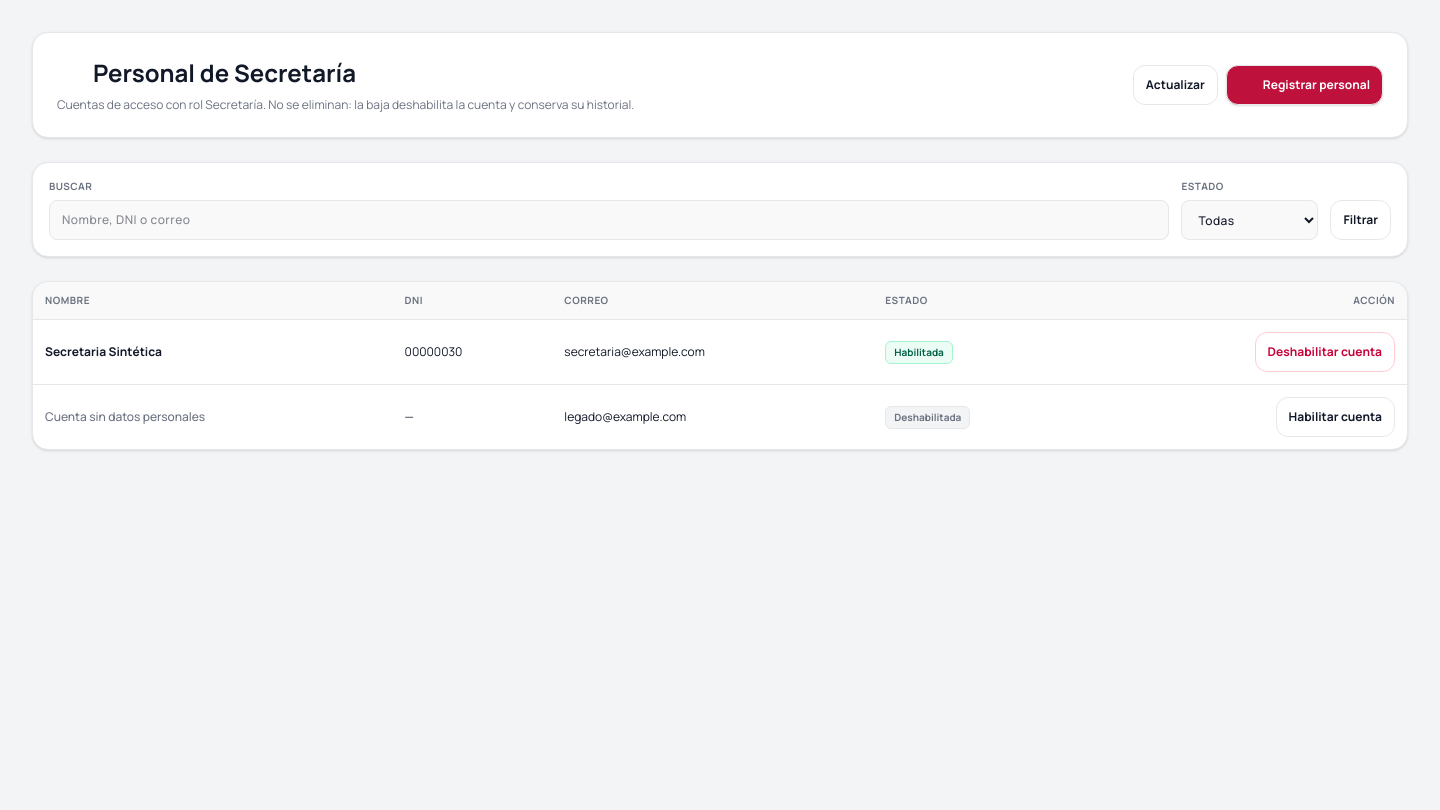
it: deactivating requires reason and justification, then reloads the list
Step 1. Click the button "Deshabilitar cuenta" → point(1325, 352), box [1255, 332, 1395, 372]
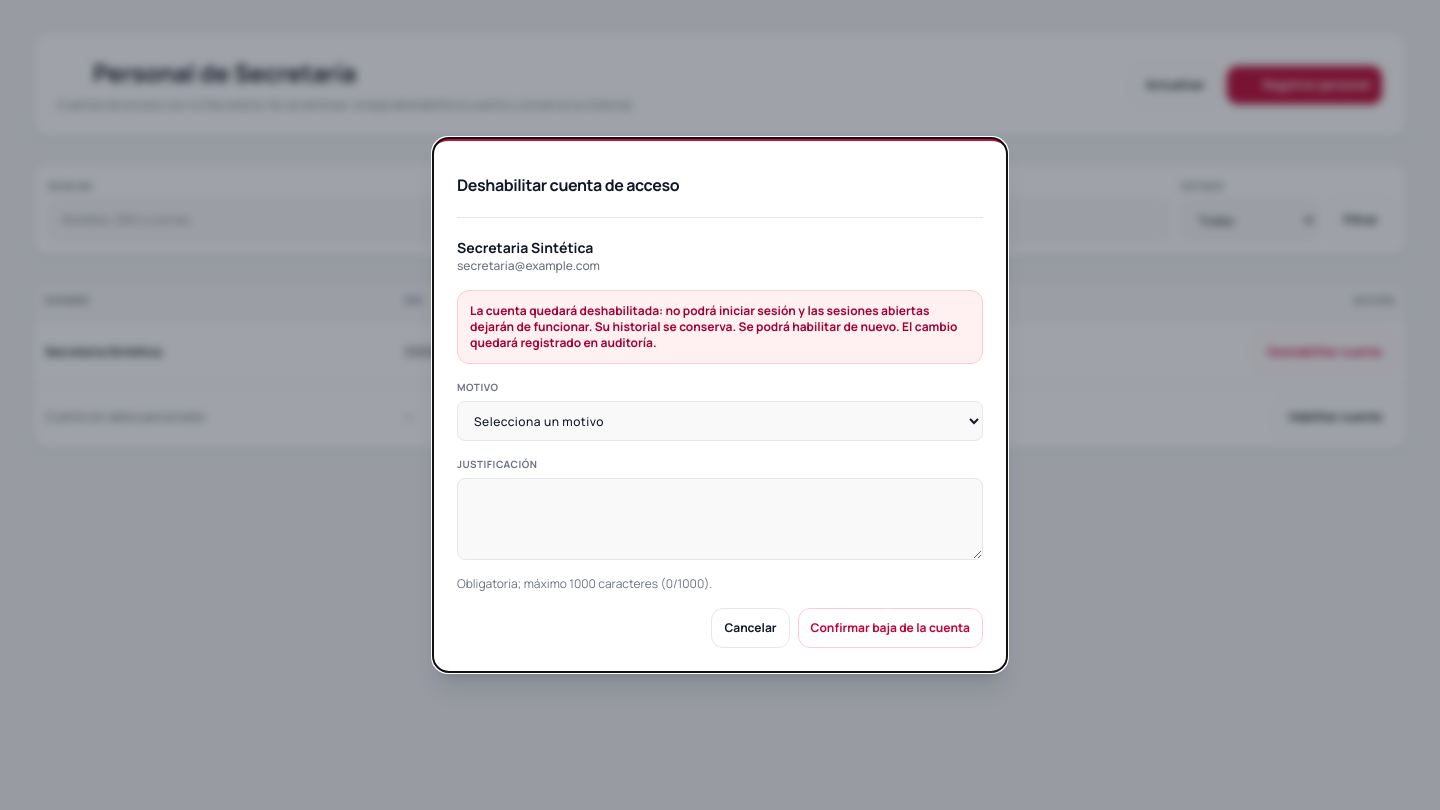
Expected: the form that starts with "Secretaria Sintética" is shown
Step 2. Submit the form that starts with "Secretaria Sintética", box [457, 238, 983, 648]
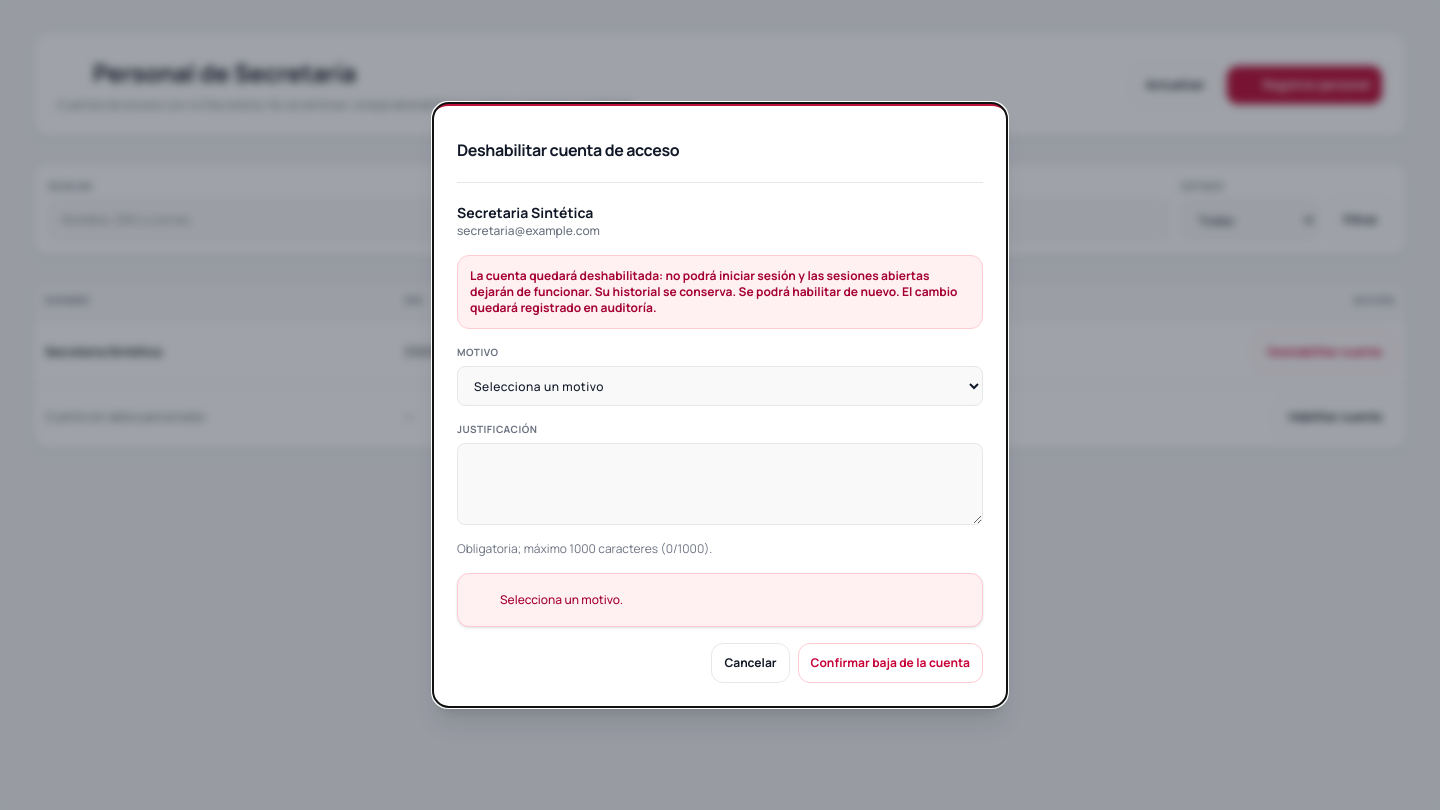
Step 3. Select "Renuncia" in the dropdown labelled "Motivo" → point(720, 386), box [457, 366, 983, 406]
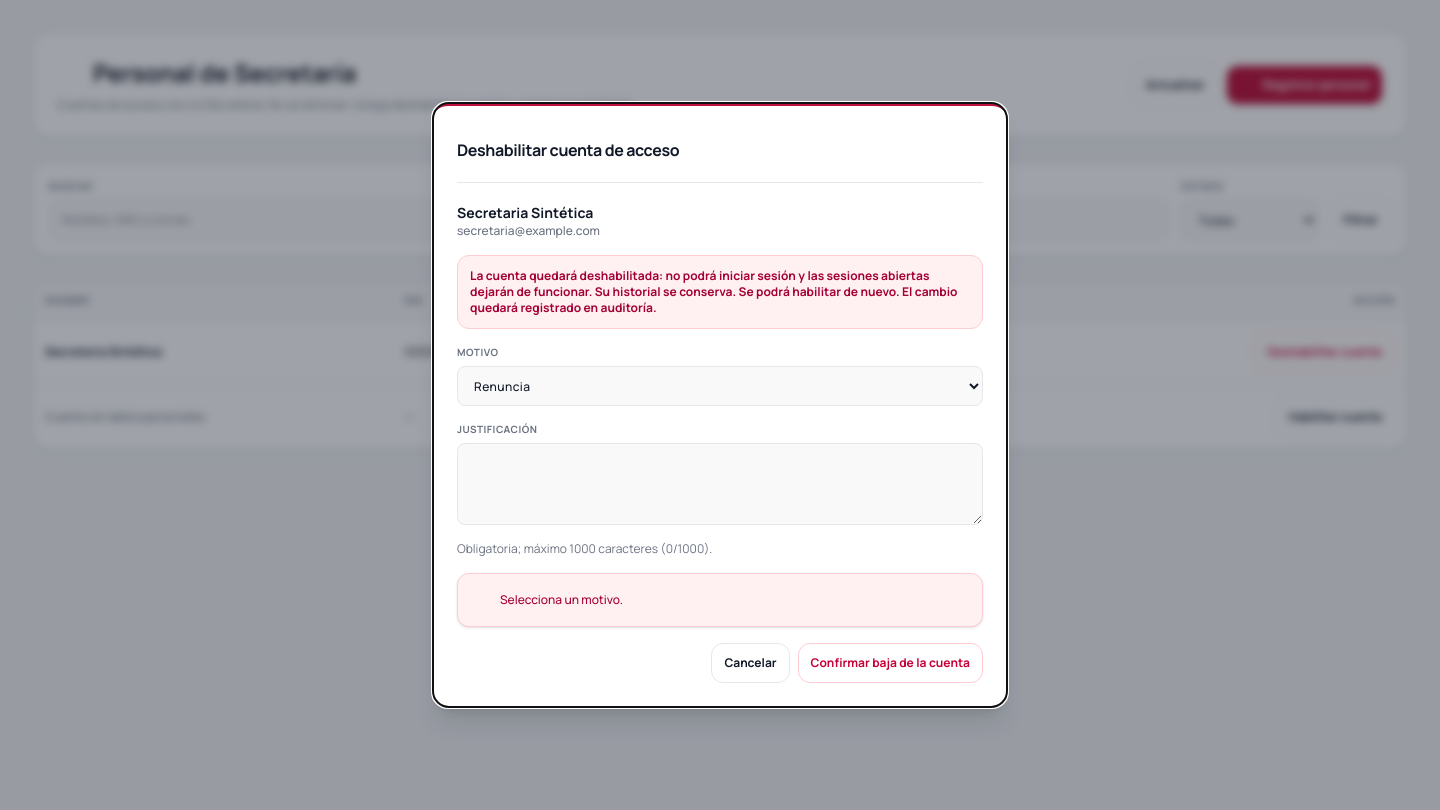
Expected: the form that starts with "Secretaria Sintética" is shown
Step 4. Submit the form that starts with "Secretaria Sintética", box [457, 203, 983, 683]
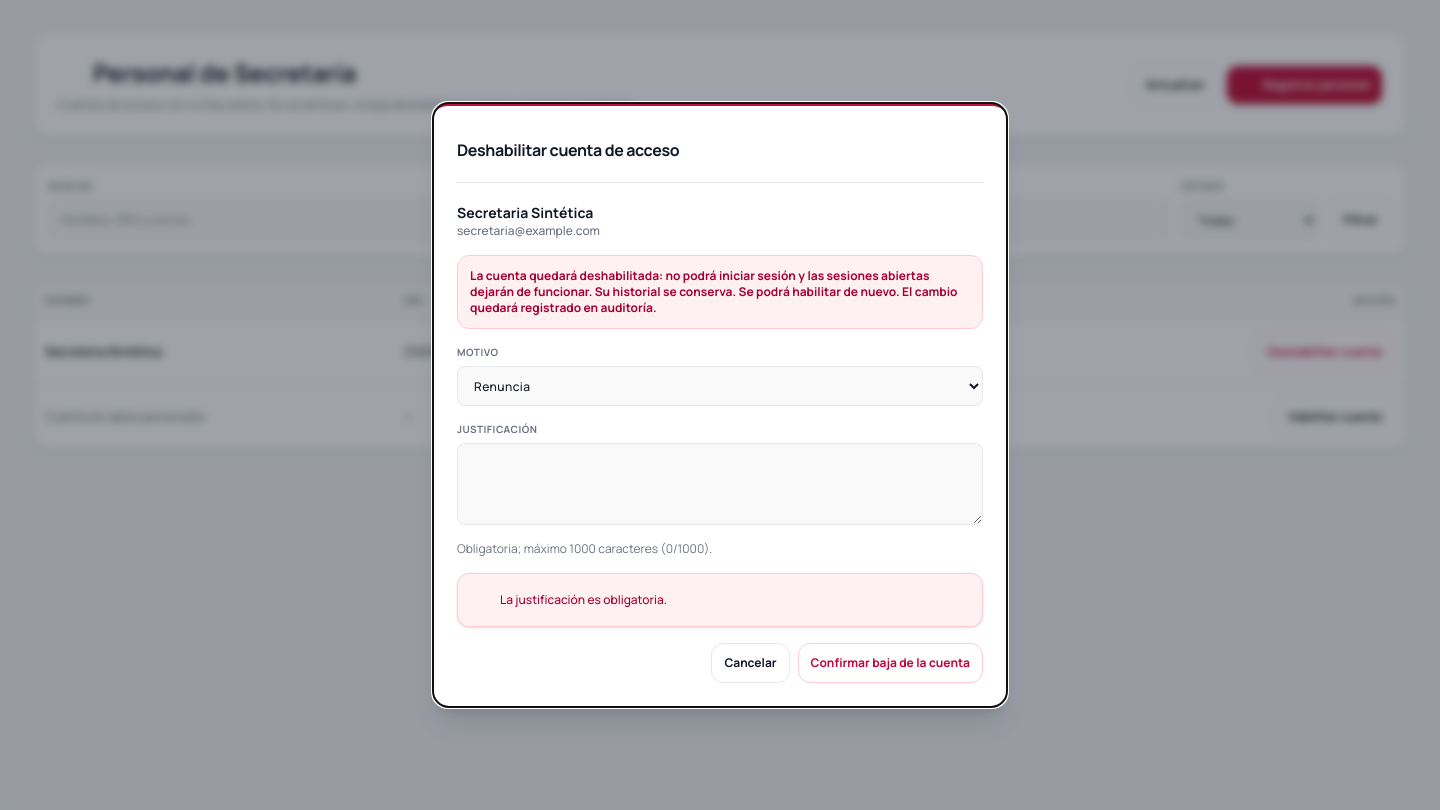
Step 5. Type "  Renuncia presentada.  " into the text box labelled "Justificación" → point(720, 484), box [457, 443, 983, 525]
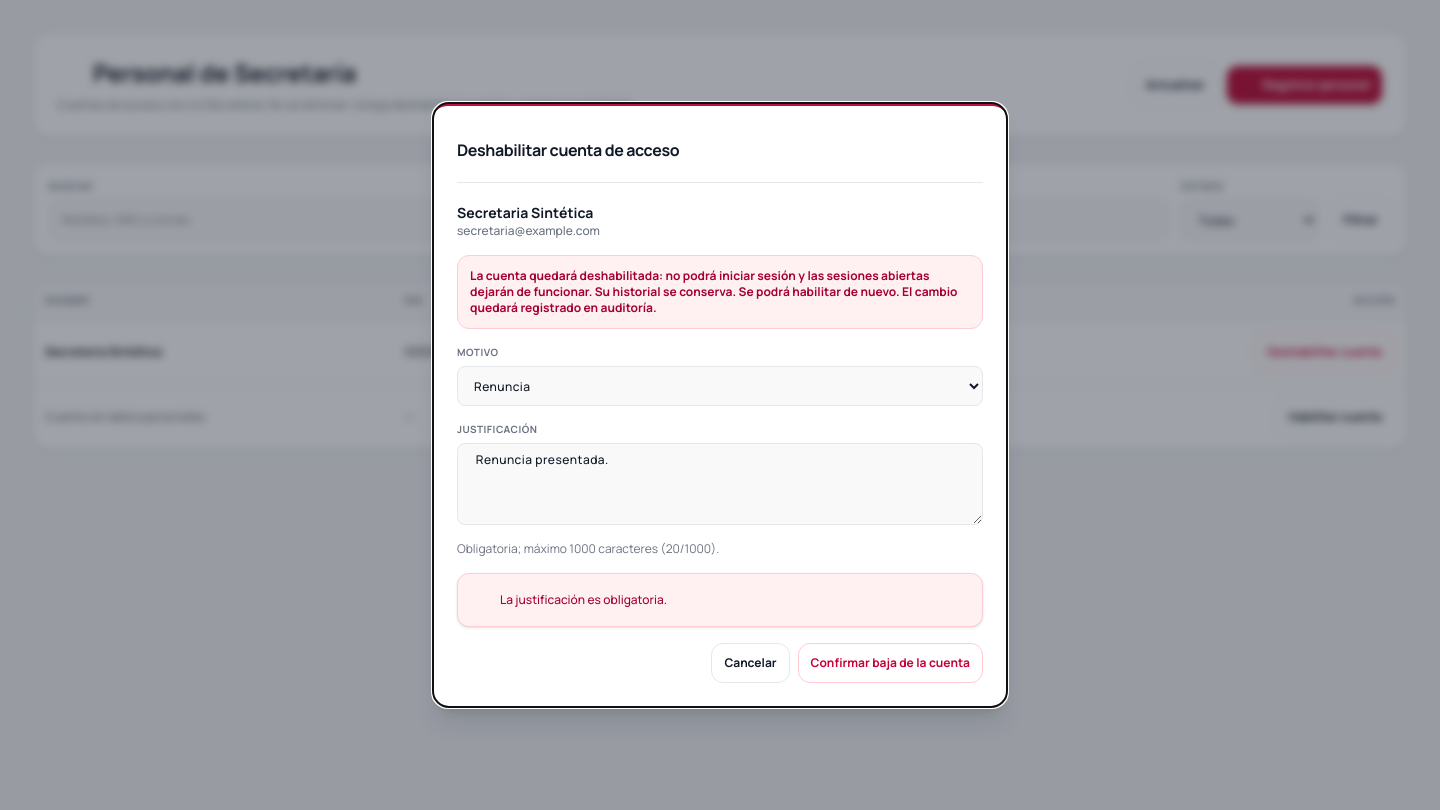
Expected: the form that starts with "Secretaria Sintética" is shown
Step 6. Submit the form that starts with "Secretaria Sintética", box [457, 203, 983, 683]
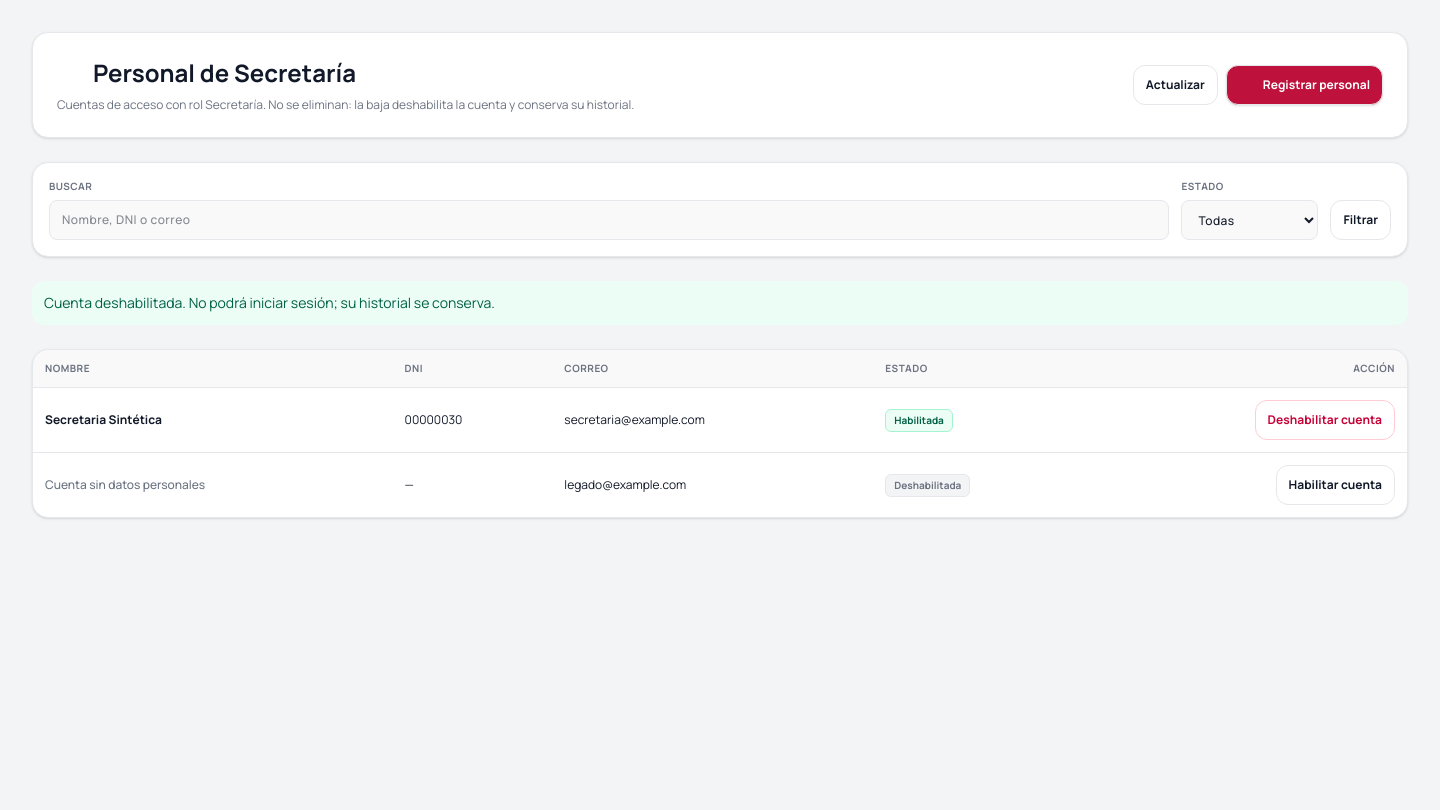
Expected: the text "Cuenta deshabilitada. No podrá iniciar sesión" is shown, [44, 293, 495, 312]
